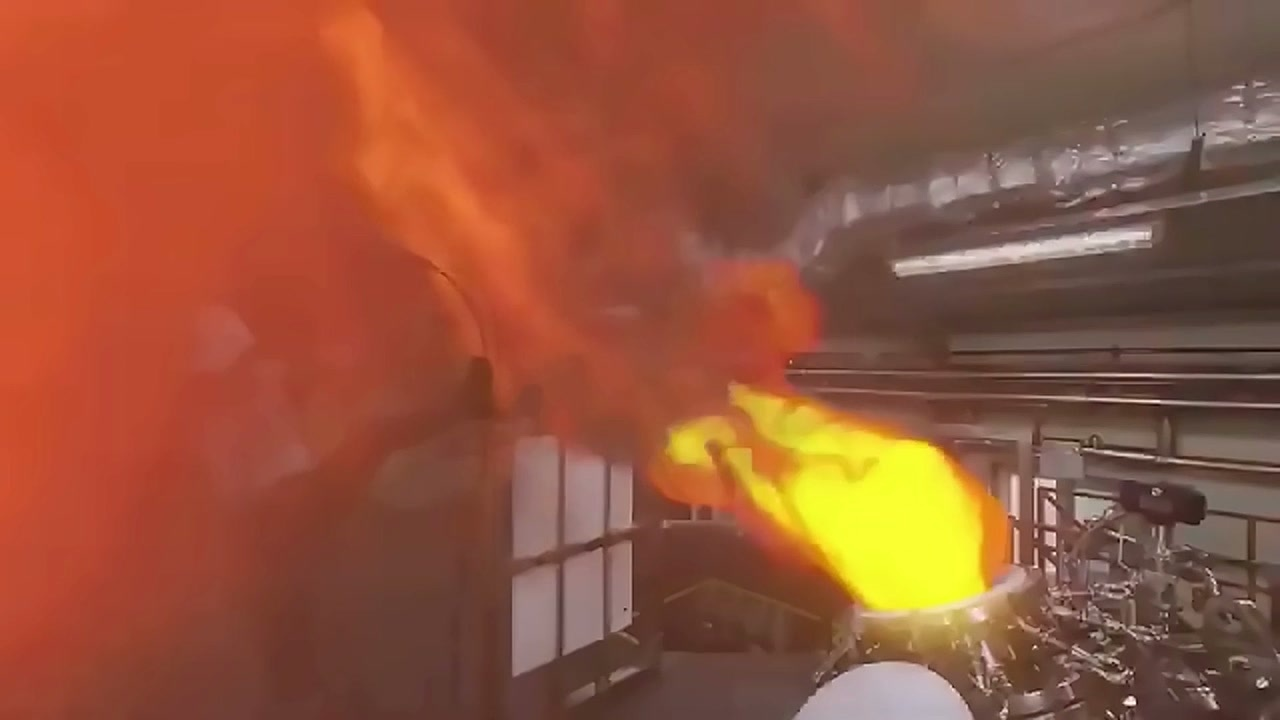fire: (0, 108, 1024, 612)
